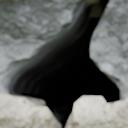broken_brick: (0, 92, 55, 127), (68, 96, 127, 127)
crack: (2, 0, 126, 127)
